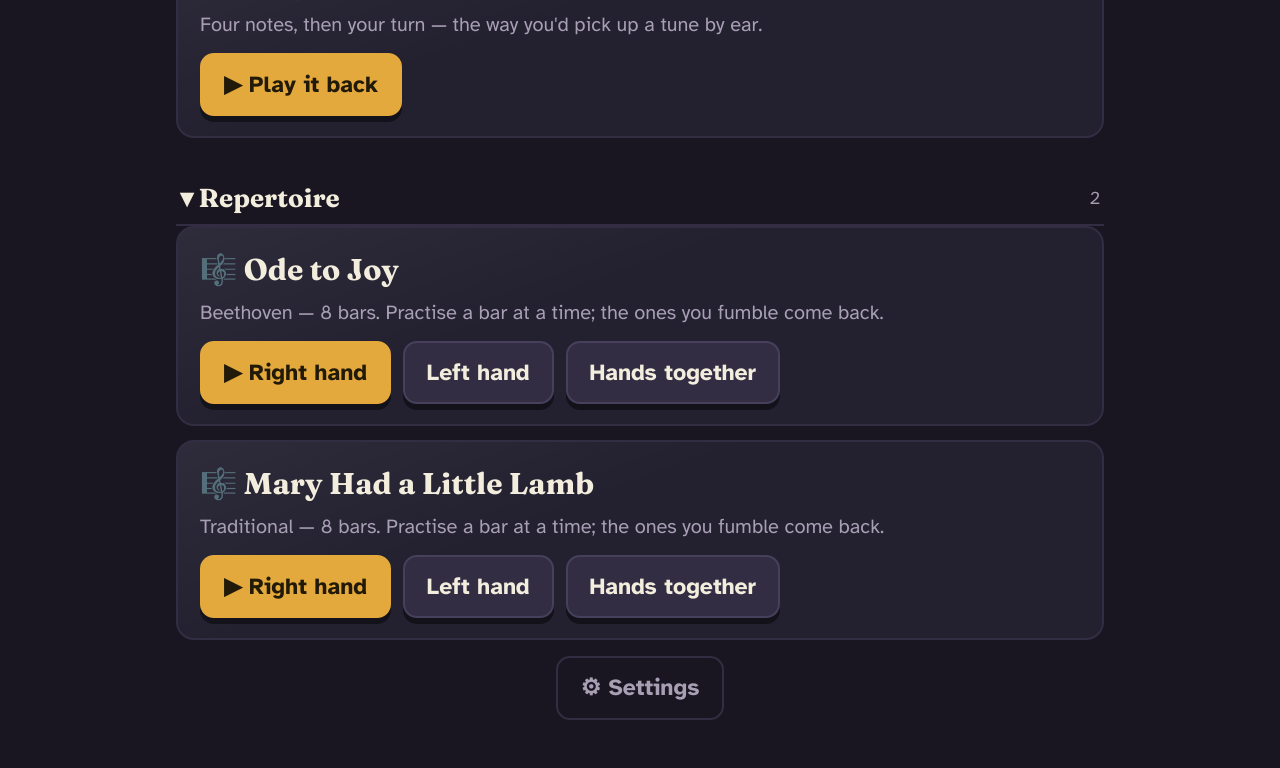
Test: account controls › toggles the settings panel
The image size is (1280, 768).
(page scrolled)
Step 1. Click the button "⚙ Settings" → (640, 688), box [556, 656, 724, 720]
(page scrolled)
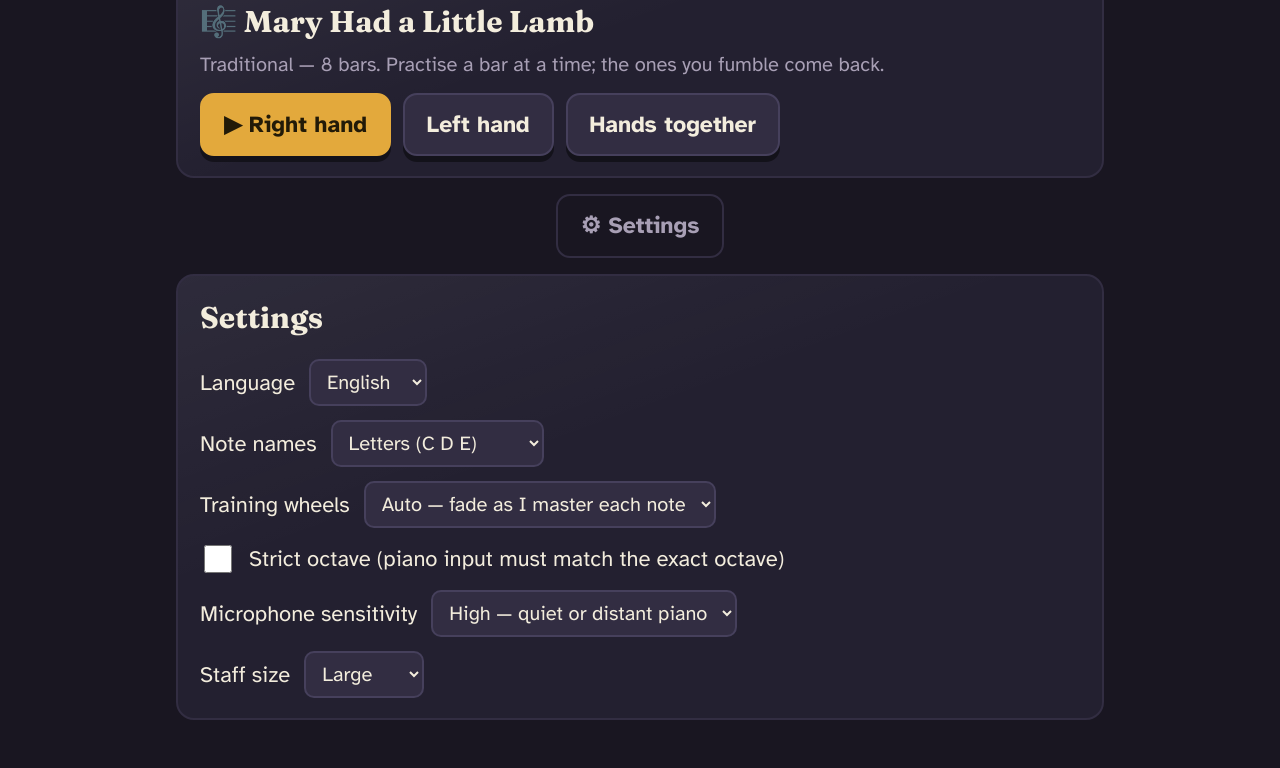
Expected: the element with class "settings" is shown, [176, 274, 1104, 720]
